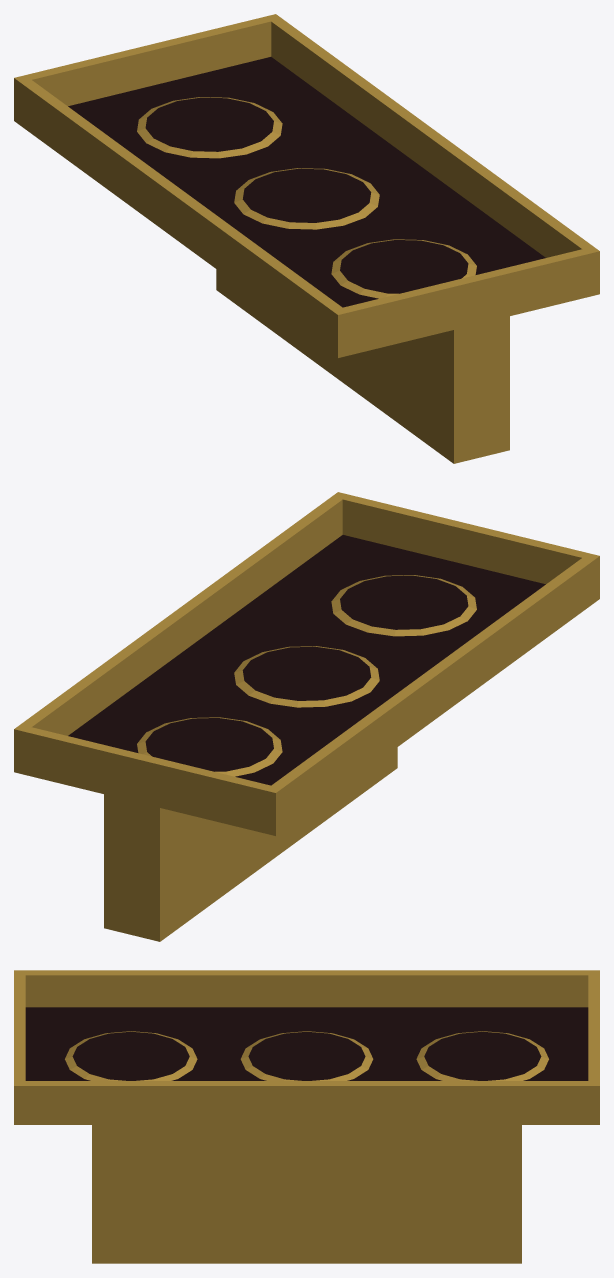
The model's file is chip_tray.glb.
3 views of the same model, one above another, from view 1: azimuth 30°, elevation 25°; view 2: azimuth 150°, elevation 25°; view 3: azimuth 270°, elevation 25° (orthographic). The views are drawn at different scales.
Visible parts, largest first — view 1: chip_tray; view 2: chip_tray; view 3: chip_tray.
Part boxes in pixels (x1,y1,x2,y2): chip_tray: (14, 14, 599, 463); chip_tray: (14, 492, 599, 941); chip_tray: (14, 970, 599, 1263).
Bounding box in the file's own units: 0.14 × 0.112 × 0.3.
